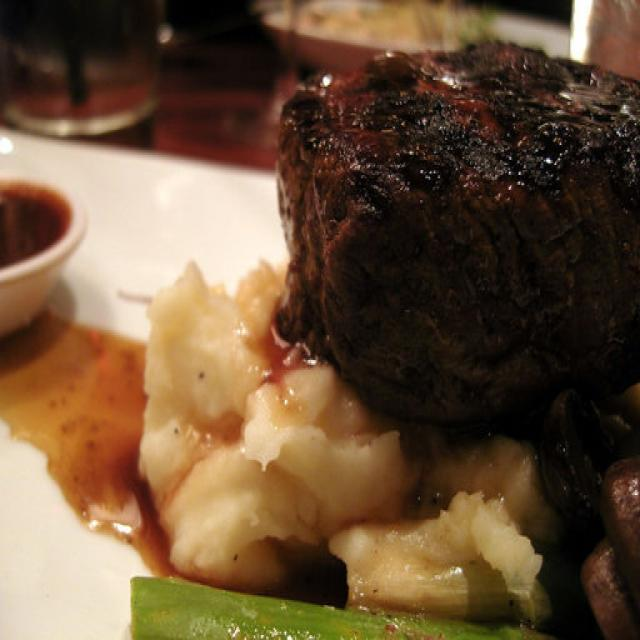Steak: (262, 30, 640, 468)
